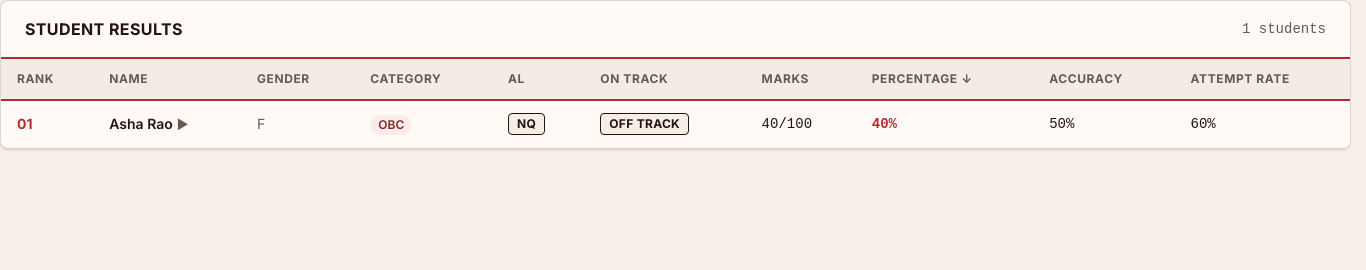
Scenario: StudentResultsTable › shows an error banner when the question fetch fails
Click the text "Asha Rao".
click(167, 124)  # box [93,100,241,148]
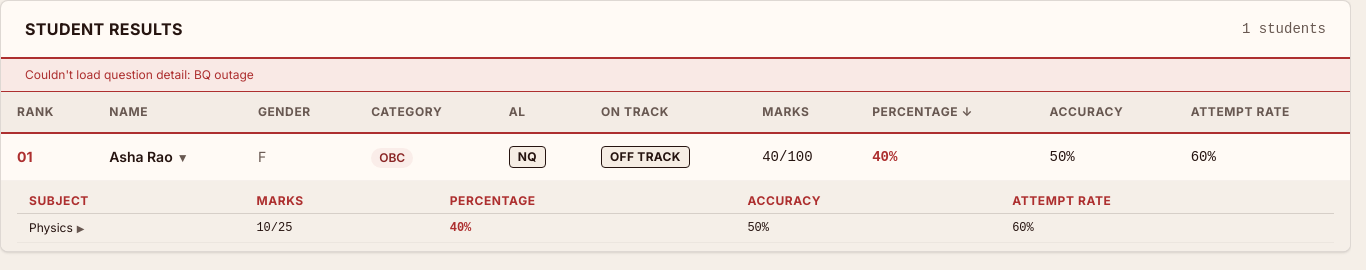
Result: the text "Couldn't load question detail: BQ outage" is shown at [1,59,1350,92]
